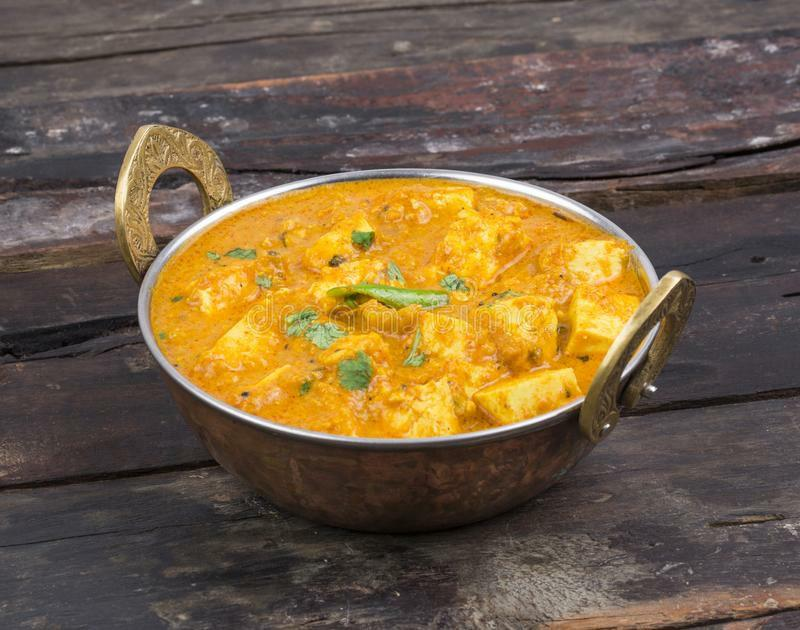ShahiPaneer: (153, 183, 646, 436)
